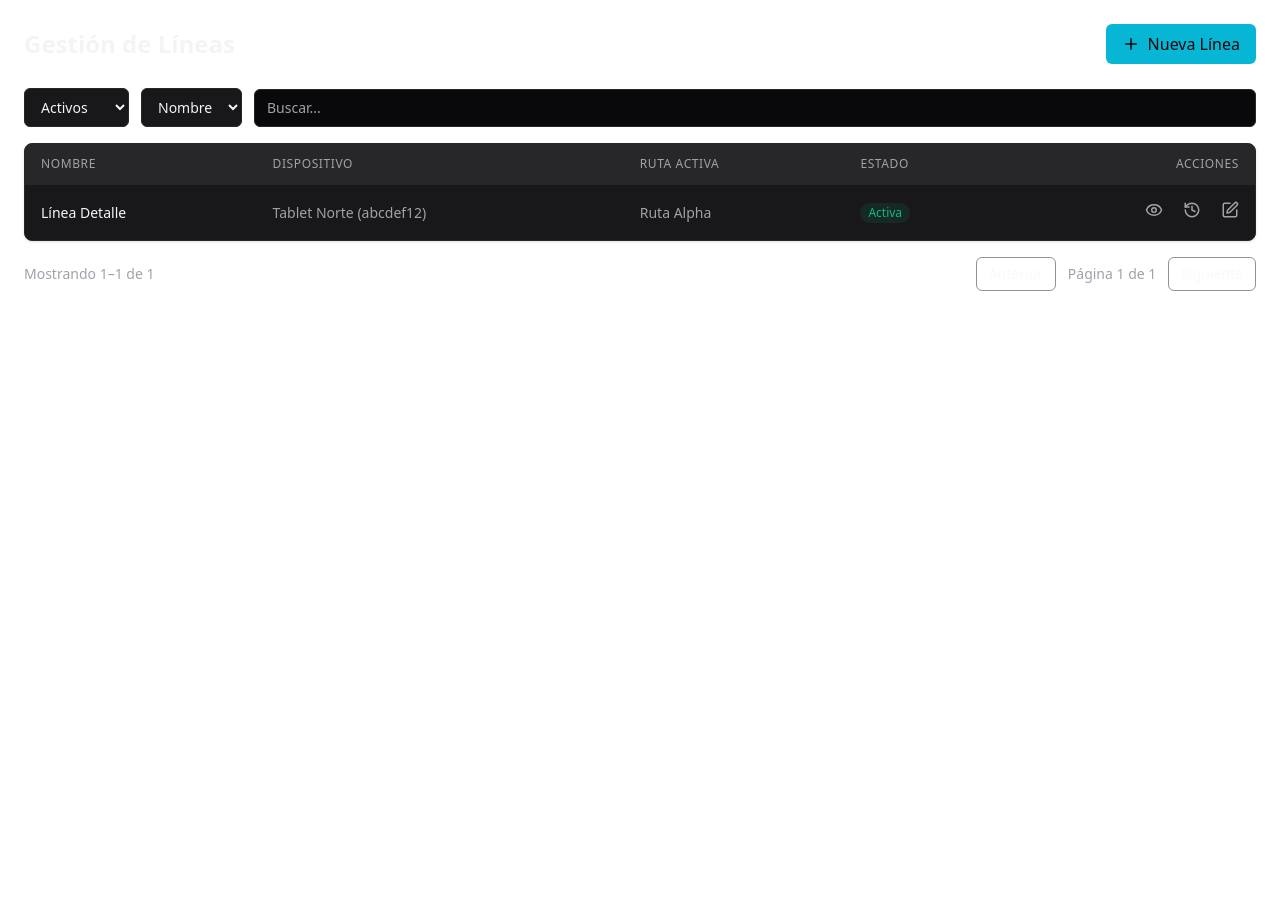
Test: LineasPage detail drawer › shows the articulo of the línea, which was only visible when editing
expect the text "Línea Detalle" is shown: met, box x1=25 y1=184 x2=257 y2=240
Click the button named "Ver detalle" at point(1154, 210), box x1=1145 y1=201 x2=1163 y2=219
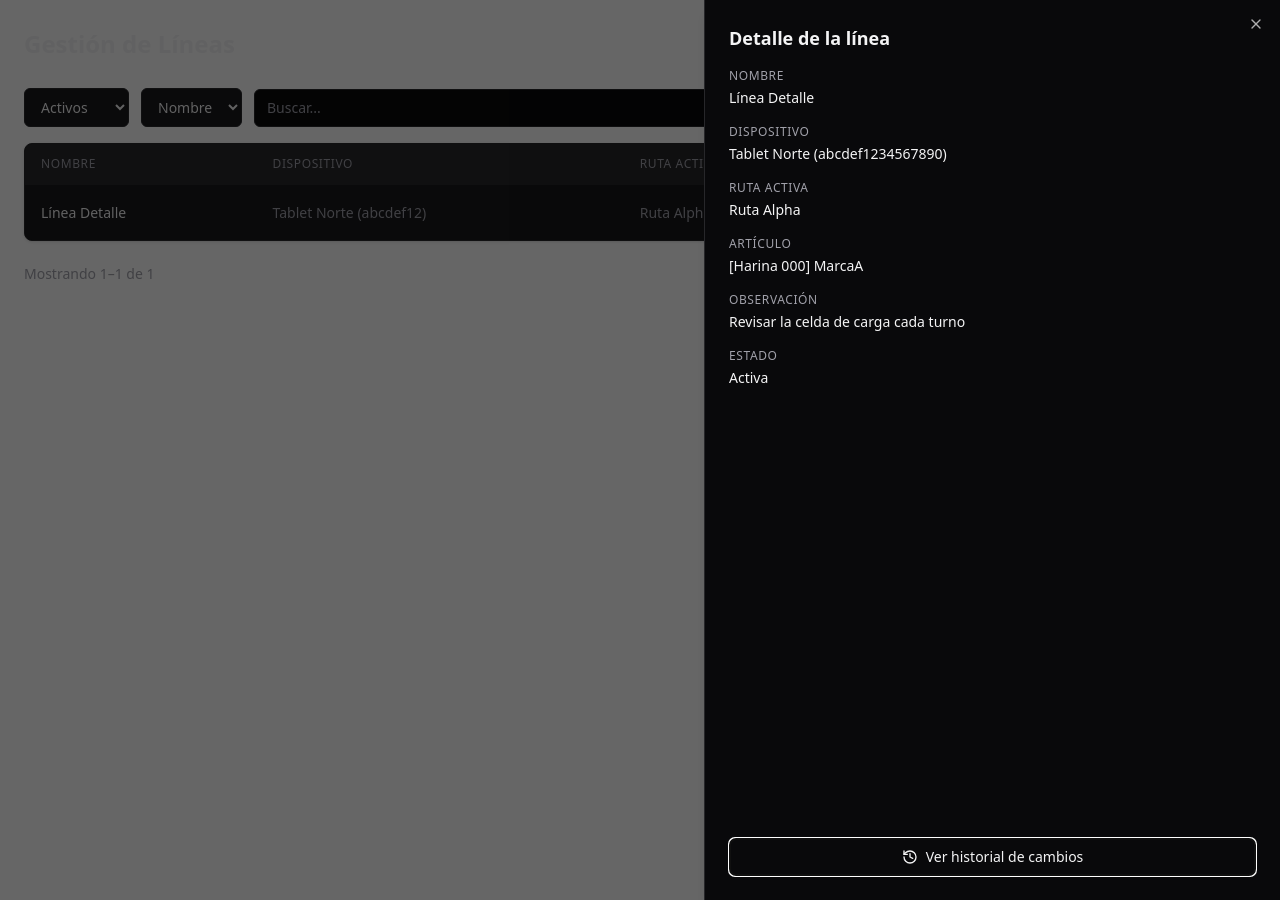
expect the text "Artículo" is shown: met, box x1=729 y1=235 x2=792 y2=252
expect the text "[Harina 000] MarcaA" is shown: met, box x1=729 y1=256 x2=863 y2=275
